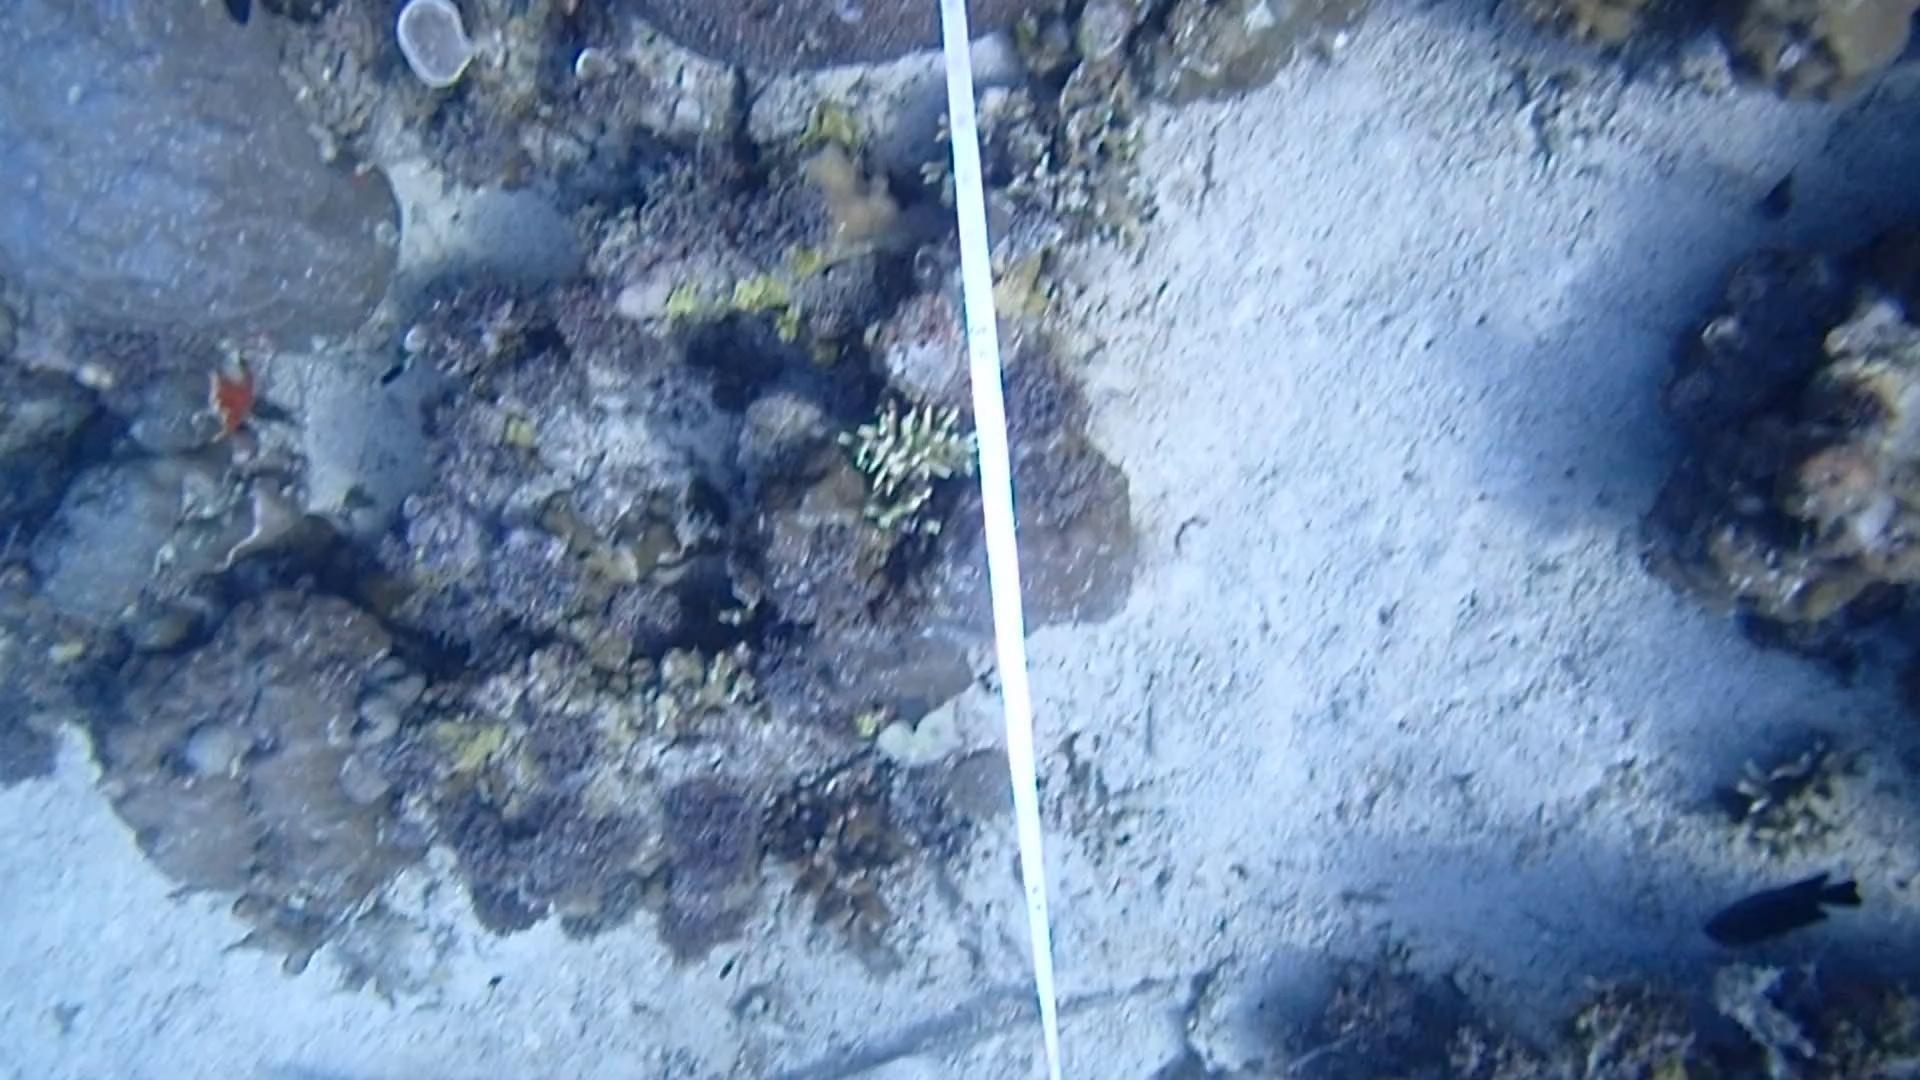Dark Fish: (1705, 861, 1859, 955)
